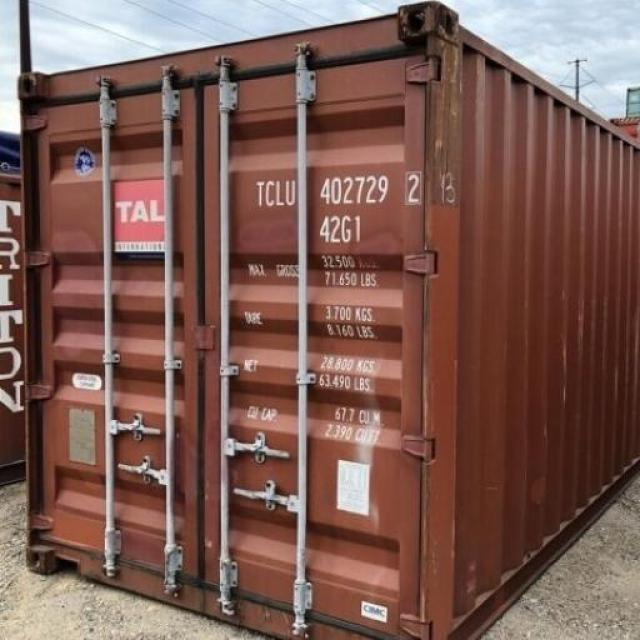ISO: (320, 215, 364, 245)
container_number: (254, 172, 410, 208)
